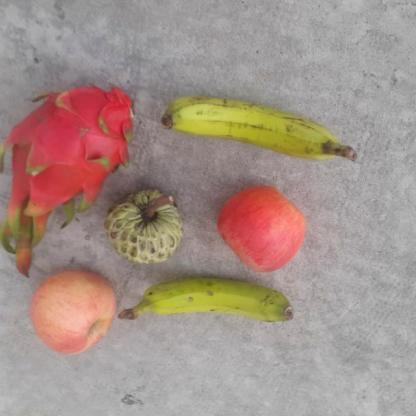annona: (103, 185, 181, 265)
apple: (211, 178, 308, 274), (28, 267, 121, 358)
banana: (156, 91, 332, 165), (130, 274, 294, 332)
pitaya: (7, 84, 135, 223)
